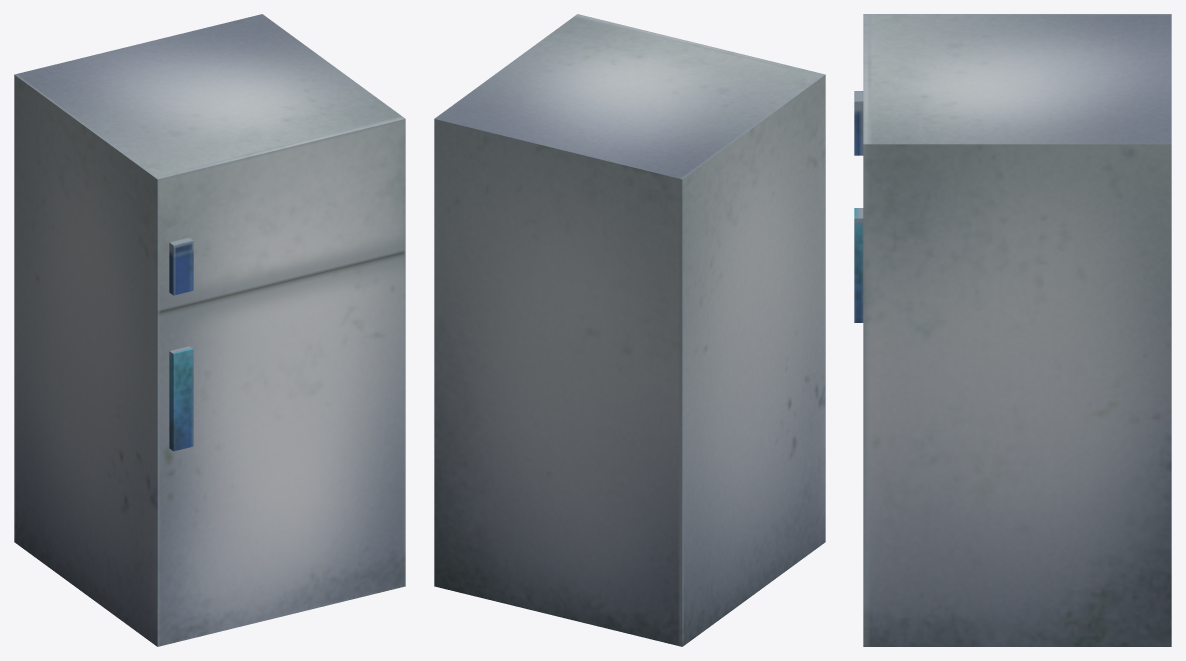
File: fridge.FBX
3 renders of one model, left to right at view 1: azimuth 30°, elevation 25°; view 2: azimuth 150°, elevation 25°; view 3: azimuth 270°, elevation 25°, orthographic. The views are drawn at different scales.
Visible parts, largest first — view 1: fridge; view 2: fridge; view 3: fridge.
Part boxes in pixels (x1,y1,x2,y2): fridge: (14, 14, 405, 646); fridge: (434, 14, 825, 646); fridge: (854, 14, 1171, 646).
Bounding box in the file's own units: 50 × 90 × 51.47.
Materials: 1 (1 with a texture image).
